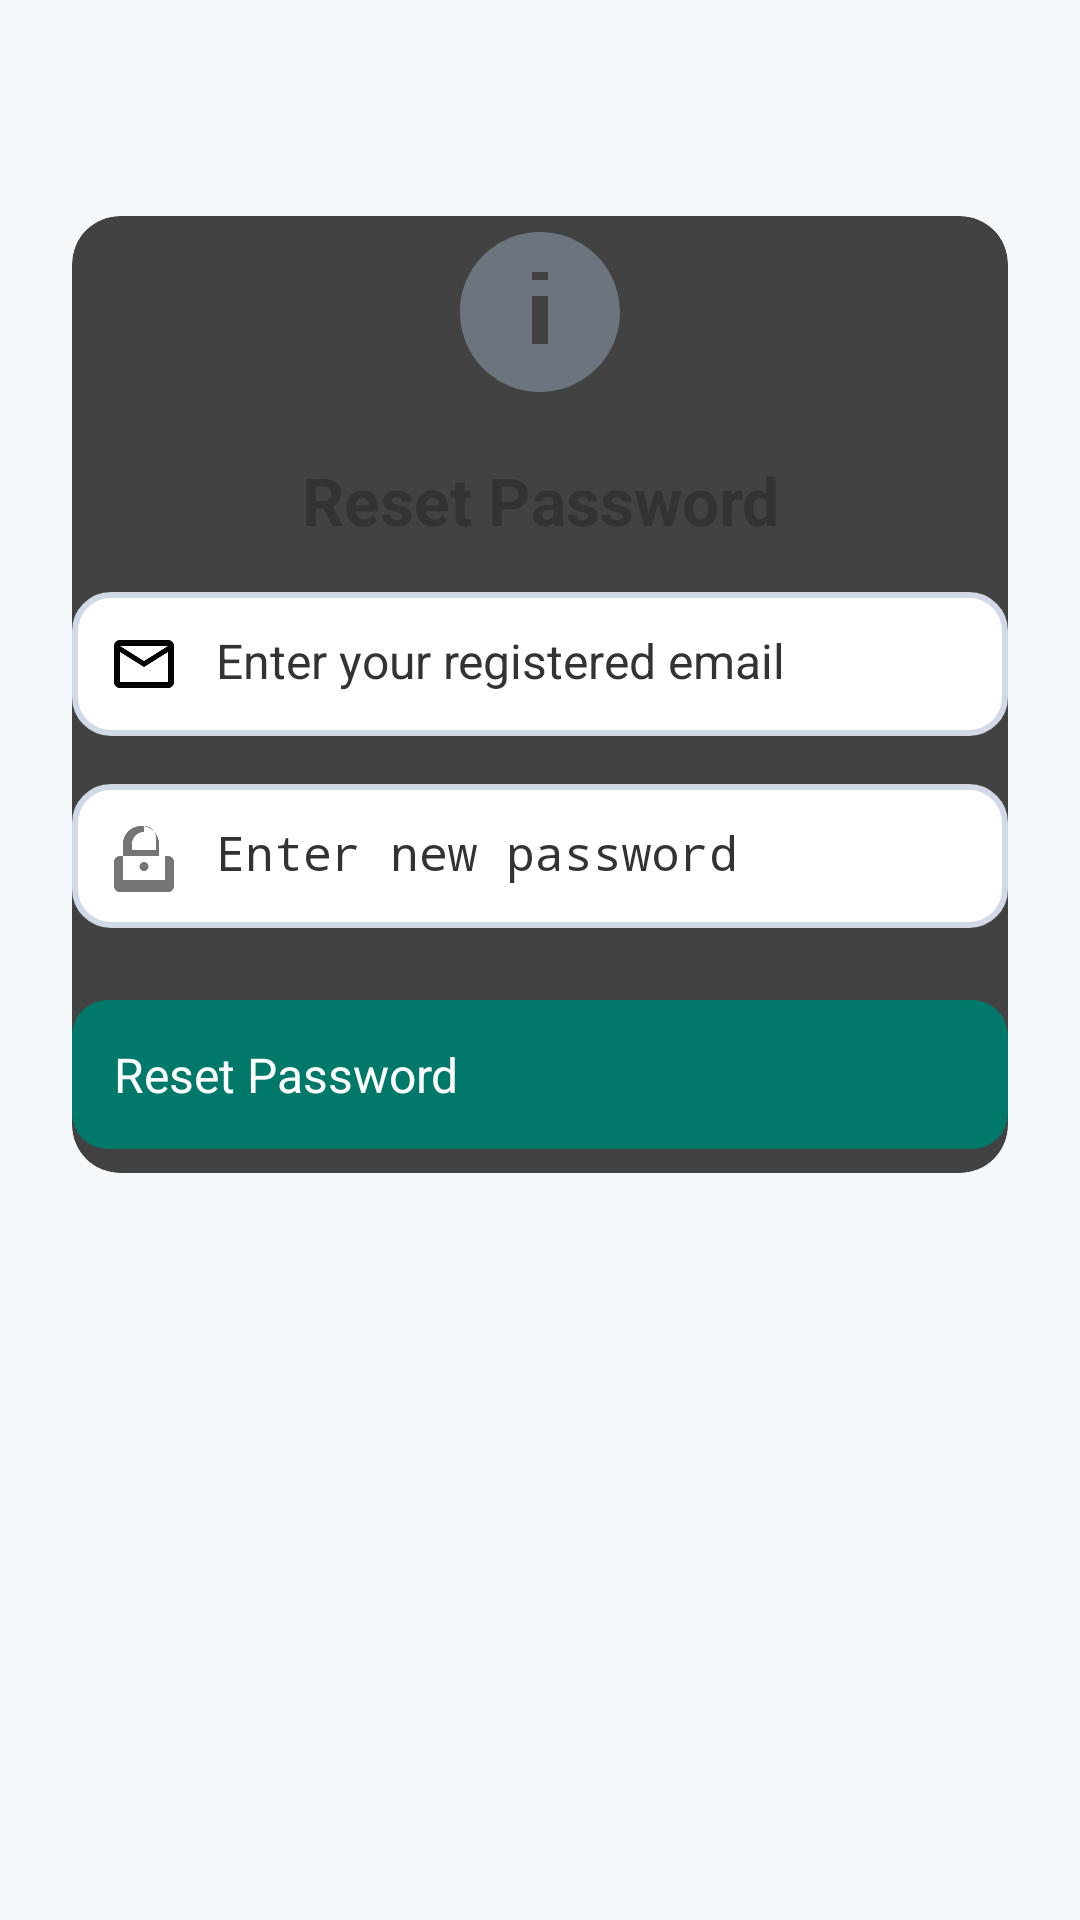

Named icons in this screenshot (1080×1920) and their centers, (x=x, y=y):
lock: (x=144, y=859)
